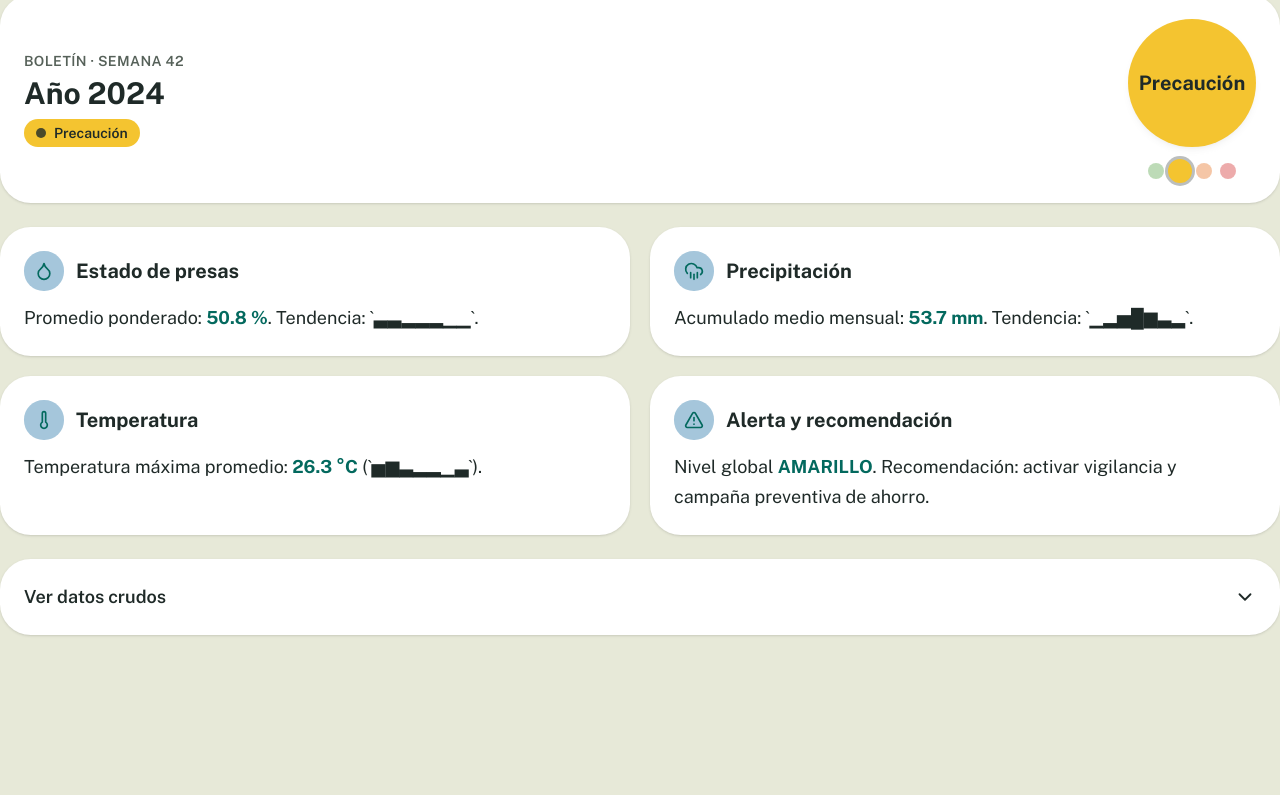
Test case: BoletinView (contrato real: markdown + hallazgos) › el panel de hallazgos crudos muestra cada métrica con su sparkline (regla 6)
The width and height of the screenshot is (1280, 795).
Click the button "Ver datos crudos".
click(95, 596)  # box [0,559,1279,635]
(page scrolled)
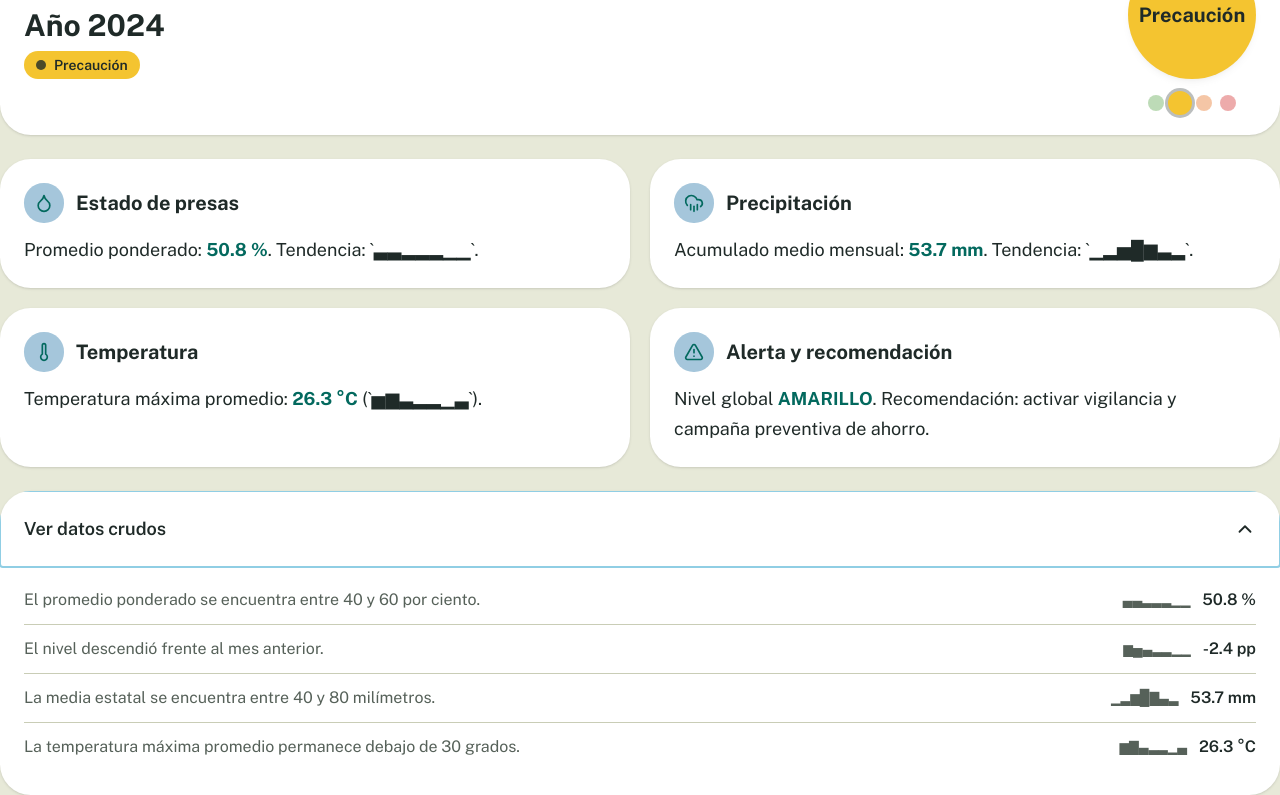
Expected: the text "El promedio ponderado se encuentra entre 40 y 60 por ciento." is shown, [24,588,480,612]
Expected: the text "▃▃▂▂▂▁▁" is shown, [1123,588,1190,612]
Expected: the text "El nivel descendió frente al mes anterior." is shown, [24,637,324,661]
